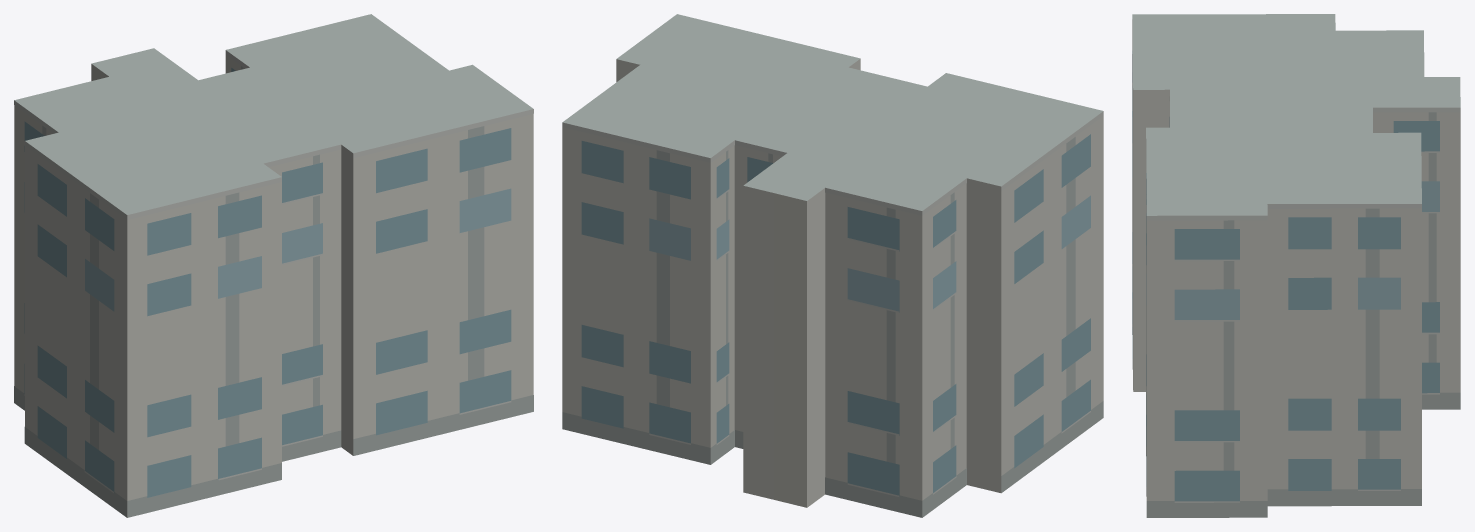
File: residential-38666993-0631-4f2e-82e4-ad4d8695ab46.glb
3 renders of one model, left to right at view 1: azimuth 30°, elevation 25°; view 2: azimuth 150°, elevation 25°; view 3: azimuth 270°, elevation 25°, orthographic.
Visible parts, largest first — view 1: residential-38666993-0631-4f2e-82e4-ad4d8695ab46.tmp; view 2: residential-38666993-0631-4f2e-82e4-ad4d8695ab46.tmp; view 3: residential-38666993-0631-4f2e-82e4-ad4d8695ab46.tmp.
Part boxes in pixels (x1,y1,x2,y2): residential-38666993-0631-4f2e-82e4-ad4d8695ab46.tmp: [14, 14, 533, 517]; residential-38666993-0631-4f2e-82e4-ad4d8695ab46.tmp: [562, 14, 1103, 517]; residential-38666993-0631-4f2e-82e4-ad4d8695ab46.tmp: [1132, 14, 1460, 517].
Size of the model in its own units: 21.86 by 15.25 by 15.02.
